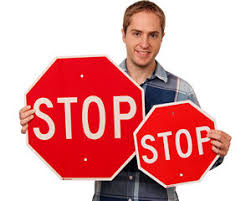stop sign: (24, 55, 146, 181), (134, 100, 220, 188)
